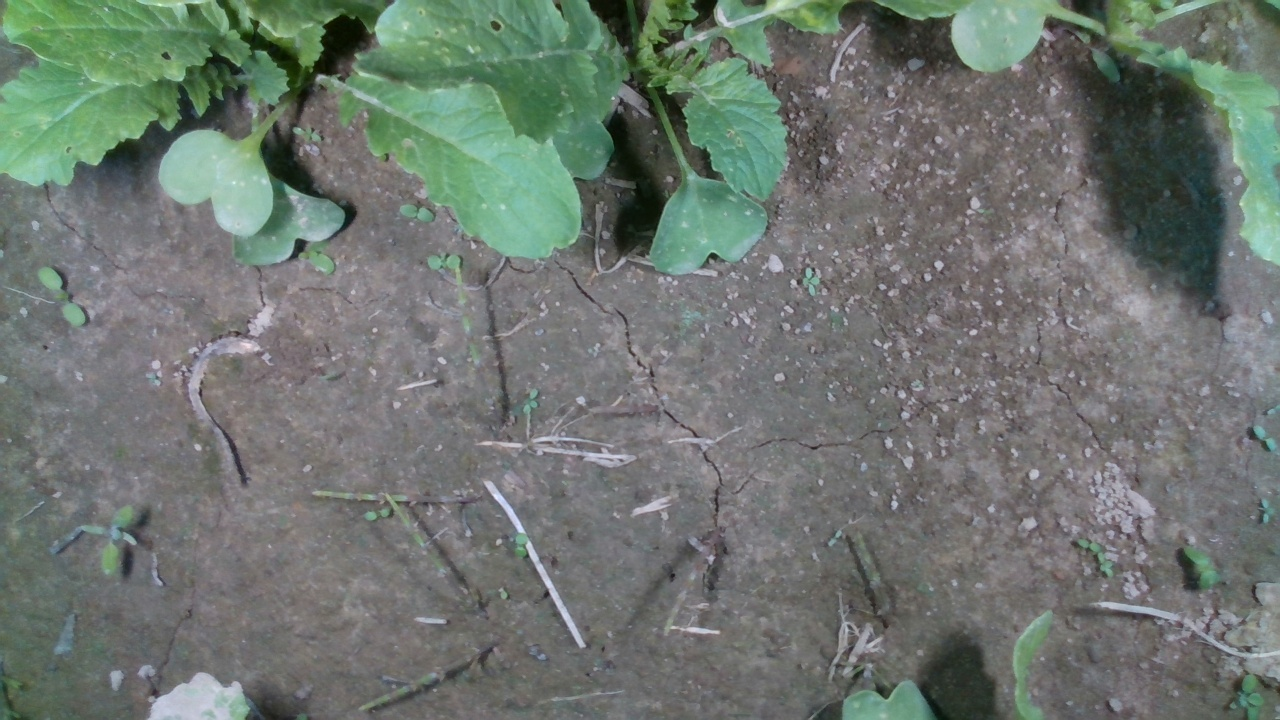weed: (78, 505, 138, 577), (34, 265, 87, 329), (1179, 543, 1217, 597), (1251, 423, 1278, 453), (398, 203, 435, 223), (291, 124, 324, 145), (801, 265, 821, 297), (518, 387, 540, 413), (1256, 496, 1275, 526), (514, 531, 528, 560)
